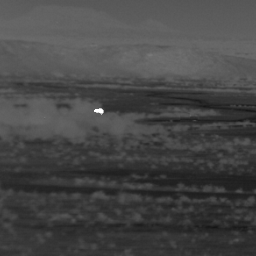Target: (93, 107, 105, 115)
